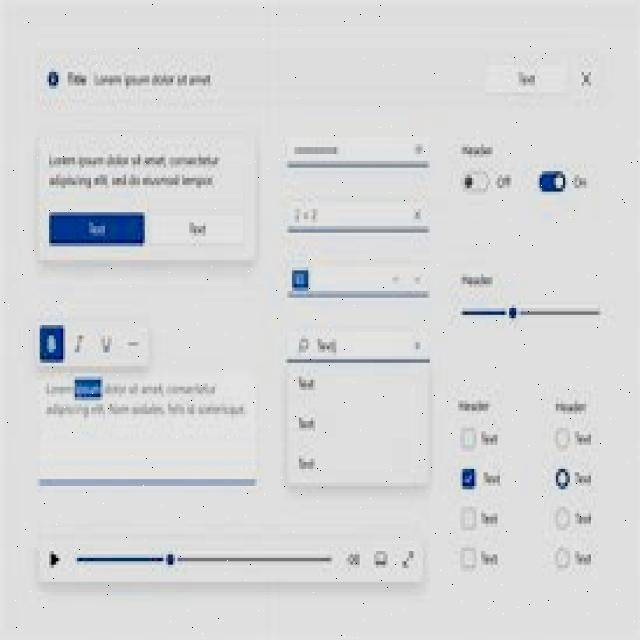button: (46, 210, 147, 250), (152, 212, 248, 248), (483, 59, 570, 96), (35, 320, 67, 367), (119, 328, 146, 356), (395, 545, 420, 571), (97, 326, 115, 362), (44, 544, 64, 573), (344, 542, 364, 570), (371, 545, 392, 571), (576, 63, 595, 91), (72, 328, 86, 356)
checkbox: (459, 423, 476, 452), (459, 465, 477, 492), (459, 506, 477, 532), (460, 546, 477, 572)
dropdownMenu: (286, 324, 437, 498), (281, 129, 432, 170), (284, 260, 434, 300), (284, 195, 432, 232)
icon: (43, 62, 62, 92)
label: (45, 372, 249, 426), (46, 144, 222, 188), (64, 68, 214, 90), (456, 265, 501, 289), (455, 396, 495, 416), (552, 396, 590, 415), (461, 143, 498, 159), (569, 169, 592, 194), (494, 170, 514, 193), (481, 429, 500, 447), (483, 470, 502, 488), (481, 548, 499, 567), (574, 430, 592, 448), (574, 548, 592, 566), (575, 470, 592, 489), (481, 510, 498, 528), (574, 512, 592, 529)
menuItem: (292, 370, 324, 394), (294, 452, 322, 474), (296, 410, 321, 434)
radio: (553, 544, 572, 571), (554, 426, 572, 452), (554, 465, 572, 491), (554, 506, 570, 533)
slider: (71, 545, 336, 571), (458, 296, 607, 327)
switch: (535, 165, 568, 196), (461, 165, 491, 197)
